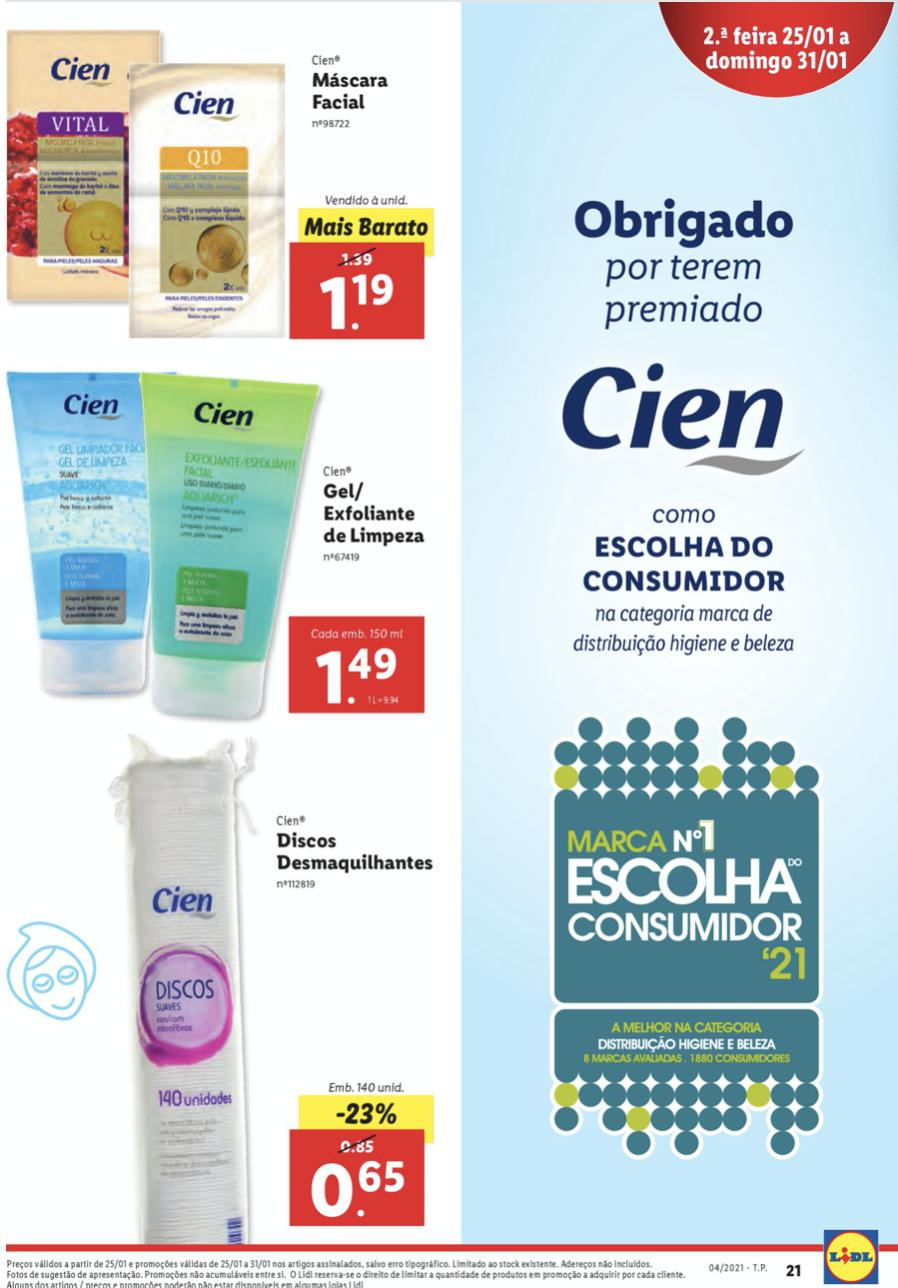name: (269, 822, 445, 880), (317, 483, 436, 548), (304, 70, 396, 114)
price: (312, 267, 406, 335), (312, 645, 406, 711), (310, 1159, 404, 1219)
product: (1, 738, 455, 1254), (4, 368, 452, 726), (1, 16, 445, 357)
promotion: (337, 1102, 398, 1134)
